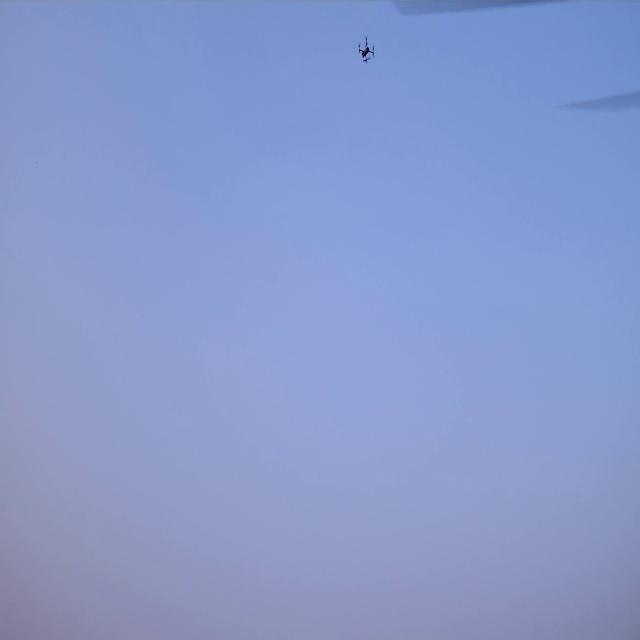UAV: (356, 34, 376, 64)
